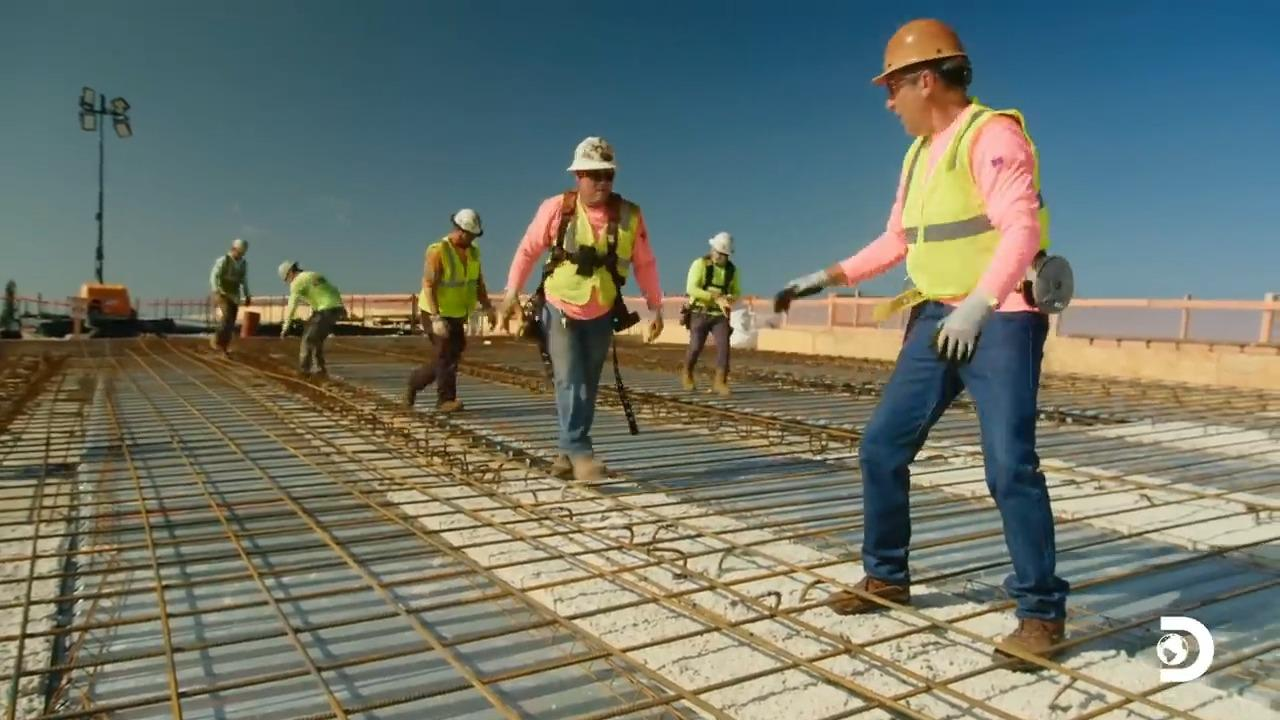Gloves: (920, 294, 997, 365), (773, 261, 828, 320), (493, 293, 529, 342), (639, 310, 665, 344), (429, 316, 449, 344)
Helmet: (871, 18, 968, 85), (566, 136, 616, 172), (450, 208, 482, 236), (708, 231, 733, 255), (277, 260, 297, 280), (231, 238, 247, 257)
Person: (772, 17, 1069, 662), (498, 135, 664, 481), (402, 208, 496, 412), (678, 231, 741, 396), (277, 259, 346, 381), (209, 237, 252, 360)
Safety Boot: (990, 608, 1060, 666), (825, 574, 919, 611), (552, 449, 607, 489), (675, 364, 694, 395), (436, 395, 462, 413), (716, 372, 731, 396)
Safety Vest: (906, 138, 1033, 275), (559, 208, 620, 301), (436, 257, 481, 319), (693, 258, 734, 314), (219, 263, 245, 297)
no-vest: (301, 273, 337, 313)
